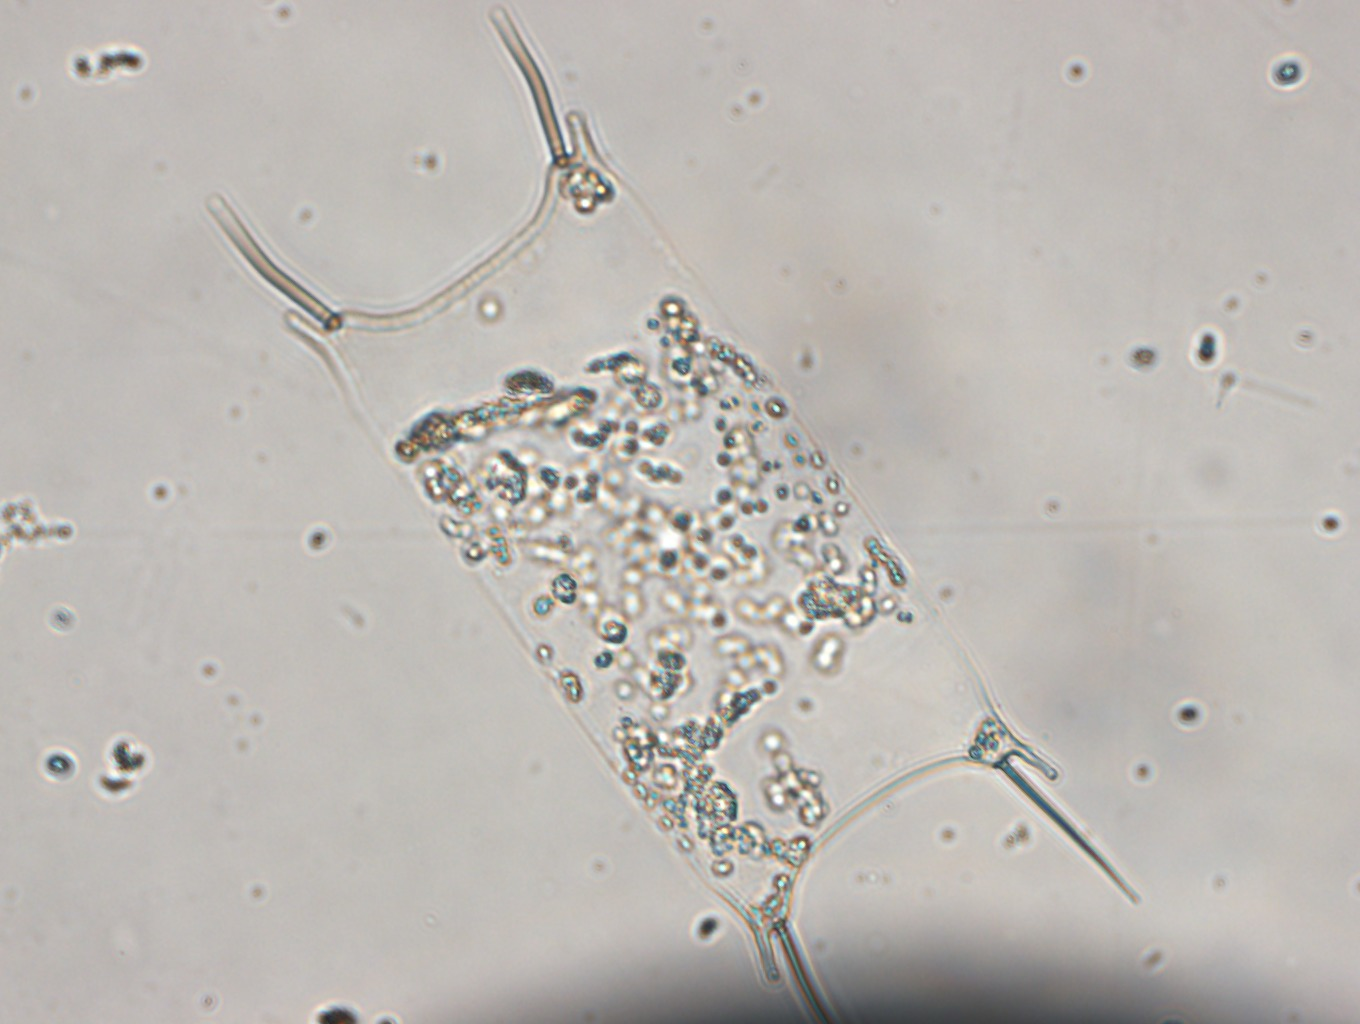biddulphia: (200, 2, 1139, 1023)
